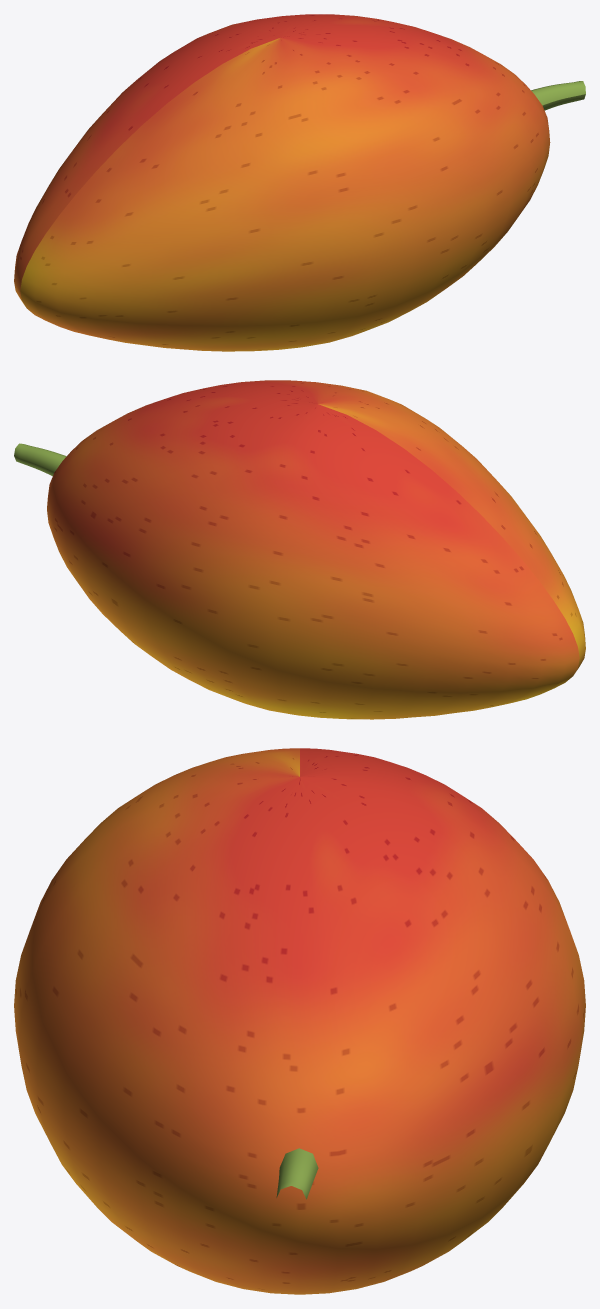
The model's file is mango.glb.
3 views of the same model, one above another, from view 1: azimuth 30°, elevation 25°; view 2: azimuth 150°, elevation 25°; view 3: azimuth 270°, elevation 25° (orthographic). The views are drawn at different scales.
Visible parts, largest first — view 1: Fruit_08_Mango_Body, Fruit_08_Mango_Stem; view 2: Fruit_08_Mango_Body, Fruit_08_Mango_Stem; view 3: Fruit_08_Mango_Body, Fruit_08_Mango_Stem.
Part boxes in pixels (box(x1,y1,x2,y2)): Fruit_08_Mango_Body: box(14, 14, 550, 351); Fruit_08_Mango_Stem: box(531, 81, 585, 110); Fruit_08_Mango_Body: box(47, 380, 585, 719); Fruit_08_Mango_Stem: box(14, 443, 66, 476); Fruit_08_Mango_Body: box(14, 748, 585, 1294); Fruit_08_Mango_Stem: box(276, 1148, 318, 1199).
Size of the model in its own units: 0.1207 by 0.06 by 0.068.
2 materials, 1 textured.
